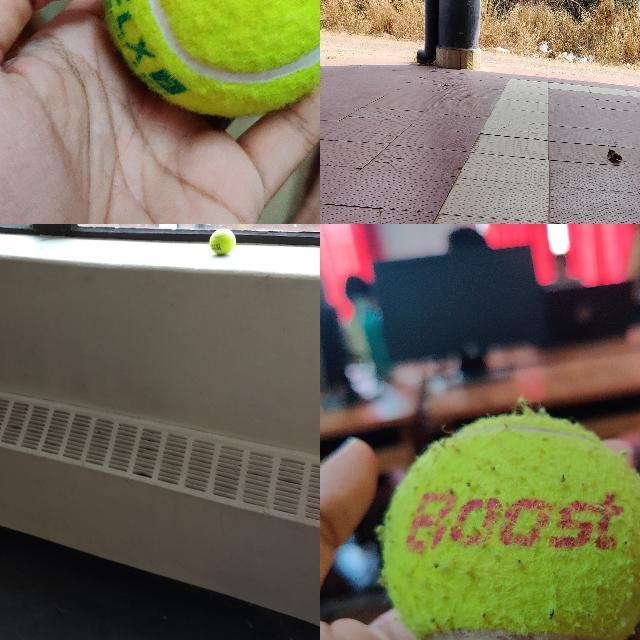tennis-ball: (380, 413, 639, 639), (103, 0, 319, 117), (209, 227, 236, 255)
